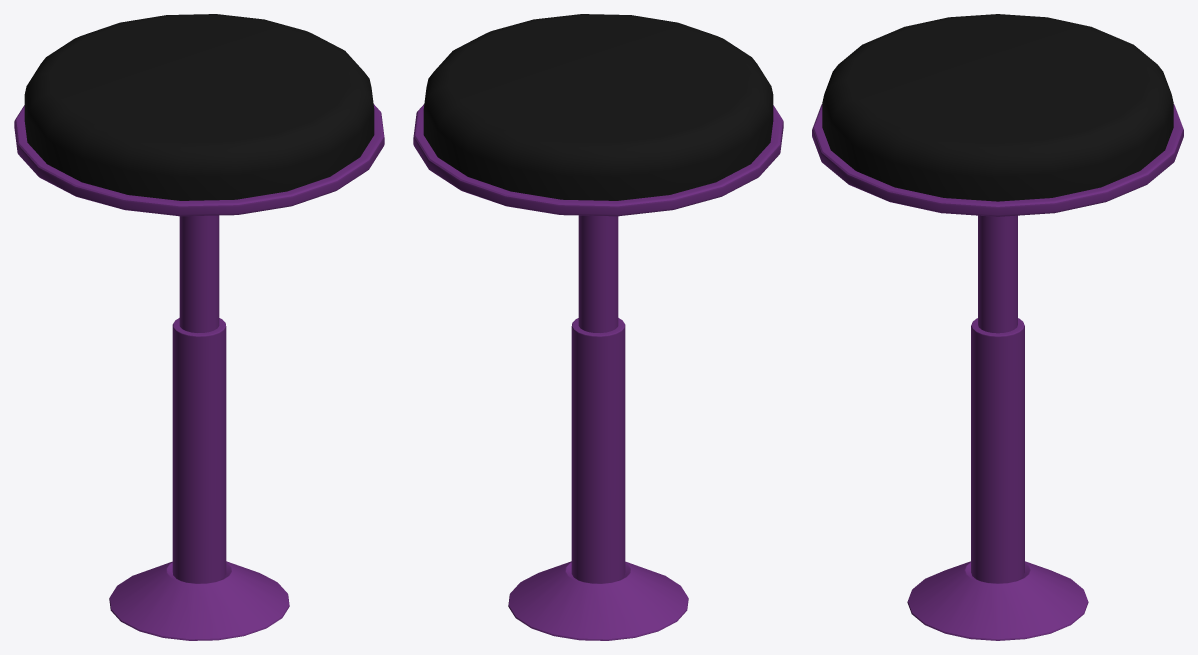
The model's file is sm_stool.fbx.
3 views of the same model, side by side, from view 1: azimuth 30°, elevation 25°; view 2: azimuth 150°, elevation 25°; view 3: azimuth 270°, elevation 25° (orthographic).
Parts seen in each view (by area): view 1: stool_low (×2); view 2: stool_low (×2); view 3: stool_low (×2).
Part boxes in pixels (x1=…): stool_low (×2): x1=14, y1=14, x2=384, y2=640; stool_low (×2): x1=413, y1=14, x2=783, y2=640; stool_low (×2): x1=812, y1=14, x2=1183, y2=640.
Size of the model in its own units: 45.66 by 70.95 by 45.66.
